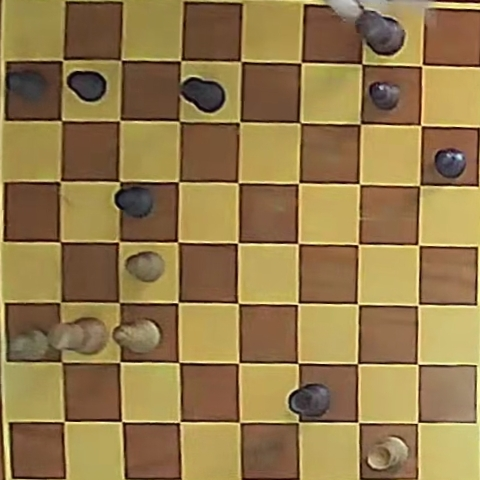black-king: (356, 10, 405, 55)
black-pawn: (7, 70, 48, 102), (67, 70, 107, 102), (115, 186, 153, 218), (434, 148, 467, 178), (369, 81, 400, 110)
black-rook: (180, 77, 225, 113), (288, 383, 331, 420)
white-bishop: (113, 319, 161, 354)
white-king: (50, 318, 107, 354)
white-pawn: (10, 329, 54, 361), (125, 251, 166, 283)
white-rook: (367, 436, 408, 471)
